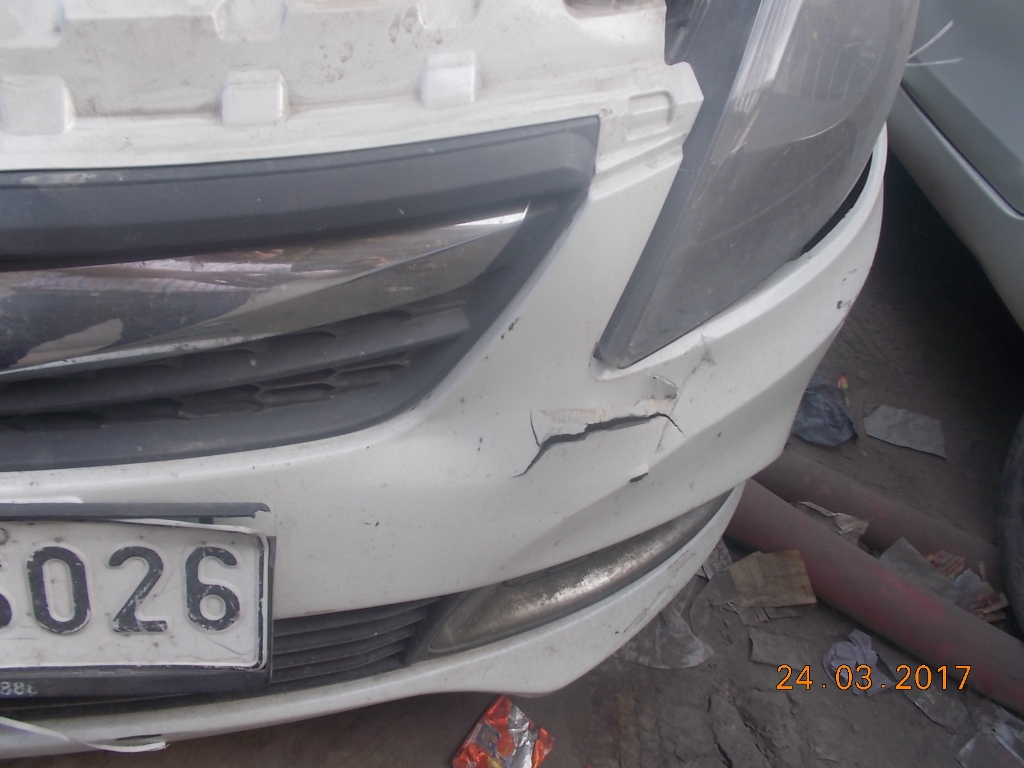Tear: (513, 392, 694, 488)
